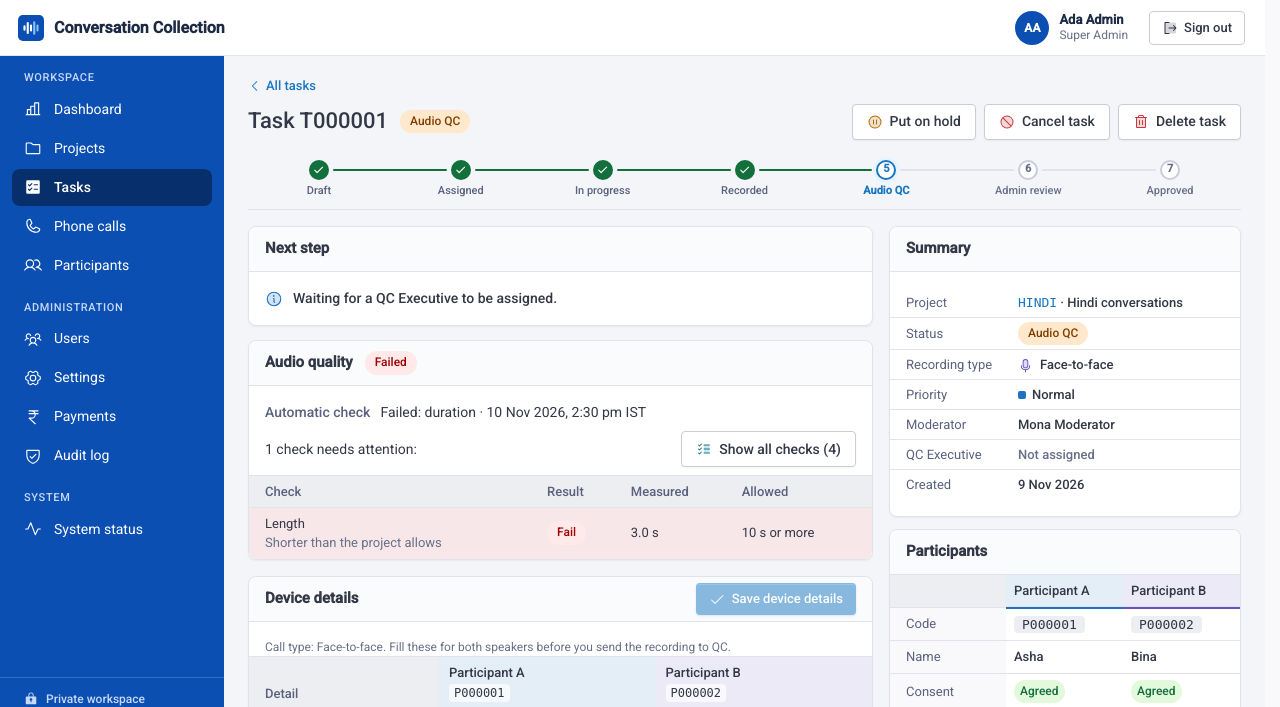
Scenario: audio quality card › shows the checks that need attention first, and every check on request
This screenshot has width=1280, height=707.
expect the text "Failed" is shown: met, box [365,351,417,375]
expect the text "1 check needs attention:" is shown: met, box [265,438,417,460]
Click the button "Show all checks (4)". click: (769, 449)
box: [681,431,856,467]
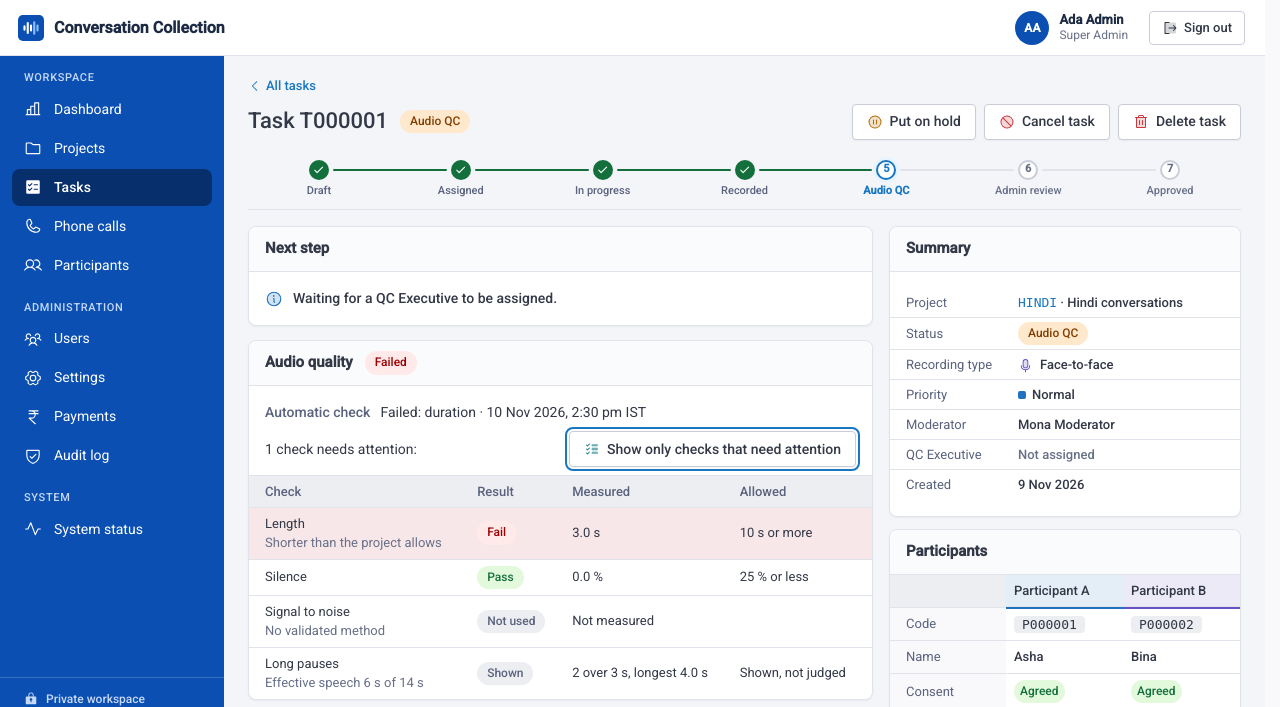
expect the text "Signal to noise" is shown: met, box [265,604,350,619]
expect the text "Long pauses" shows "2 over 3 s, longest 4.0 s": met, box [572,665,708,680]
expect the text "Long pauses" shows "Effective speech 6 s of 14 s": met, box [265,675,424,690]
